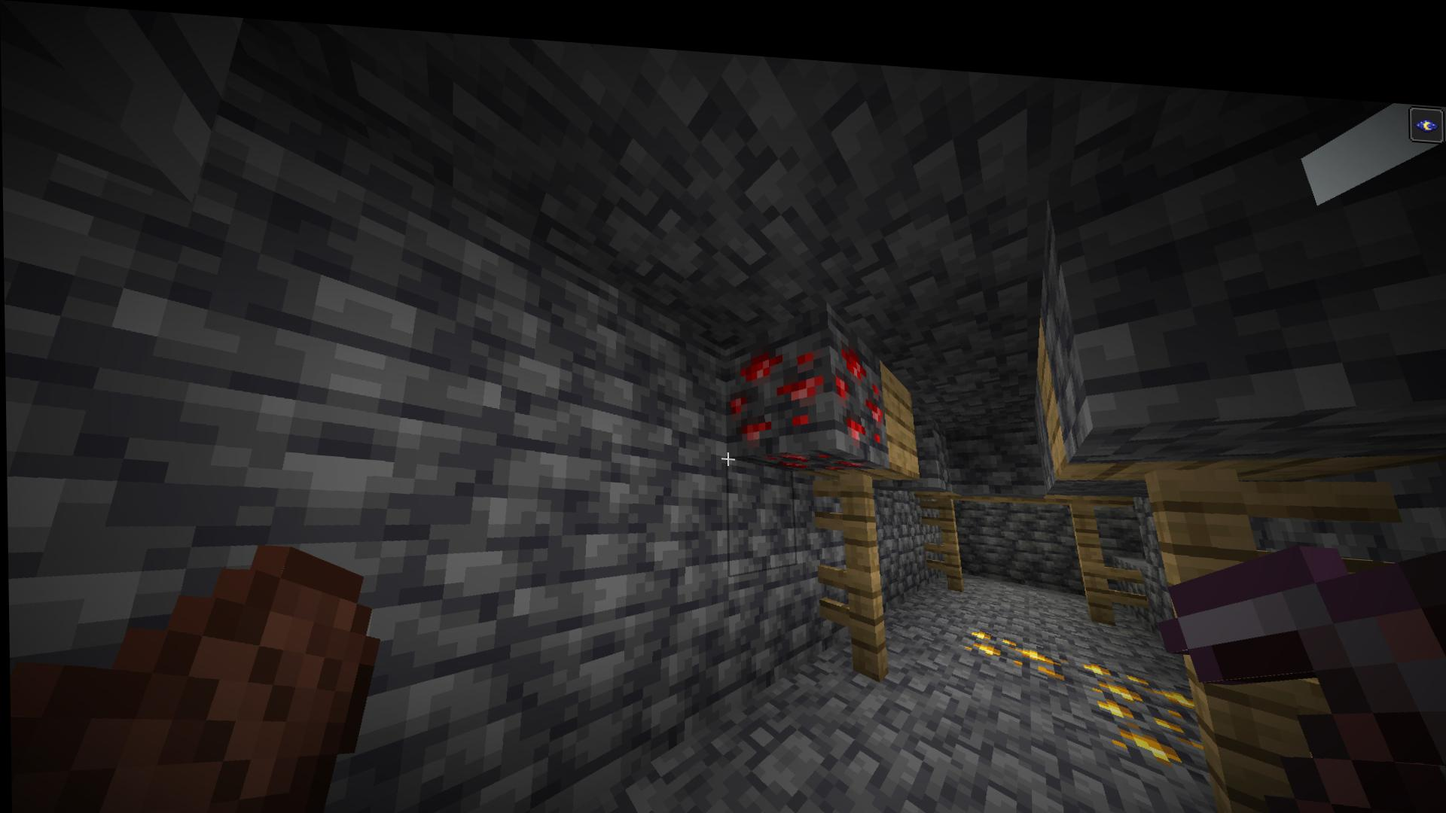gold ore: (1095, 681, 1217, 751), (1077, 643, 1203, 701), (960, 611, 1073, 668)
redstone ore: (721, 327, 829, 437), (831, 318, 890, 449), (746, 427, 863, 473)
